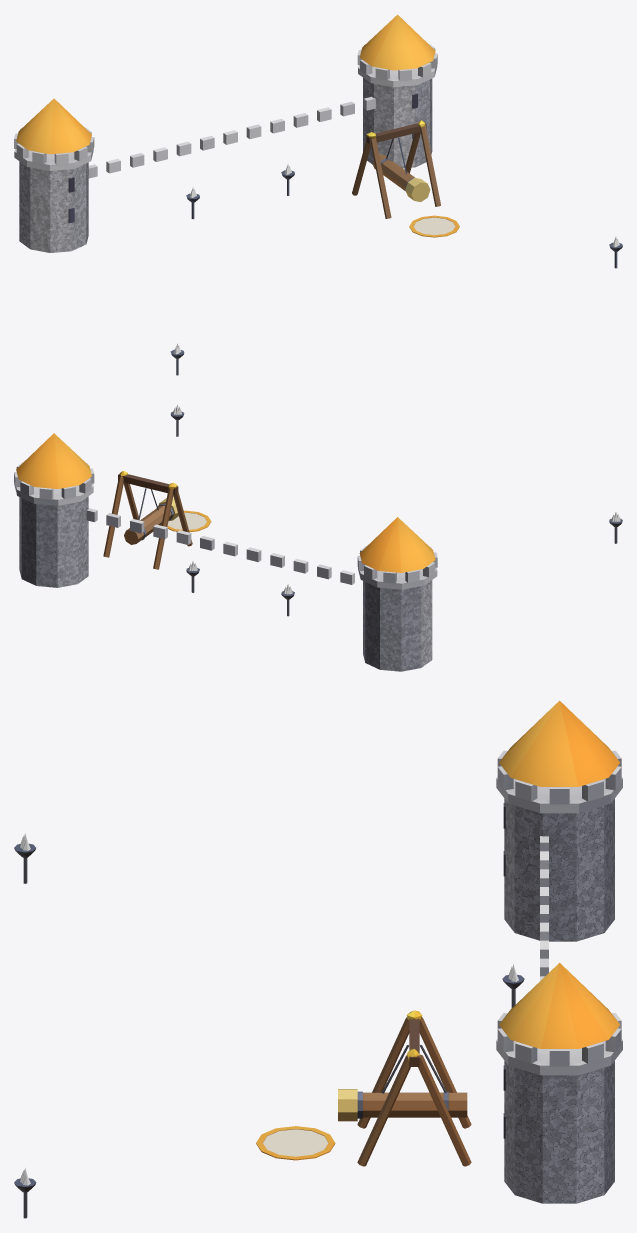
File: area_guard_4_5.fbx
The picture shows the model from 3 angles, top to bottom: view 1: azimuth 30°, elevation 25°; view 2: azimuth 150°, elevation 25°; view 3: azimuth 270°, elevation 25°; orthographic projection. The views are drawn at different scales.
Visible parts, largest first — view 1: area_guard_4_5_body; view 2: area_guard_4_5_body; view 3: area_guard_4_5_body.
Boxes of the visible parts, bbox=[...] form: area_guard_4_5_body: bbox=[14, 14, 622, 375]; area_guard_4_5_body: bbox=[14, 412, 622, 671]; area_guard_4_5_body: bbox=[14, 700, 622, 1218].
Size of the model in its own units: 15425 by 4609 by 11538.
2 materials, 1 textured.
